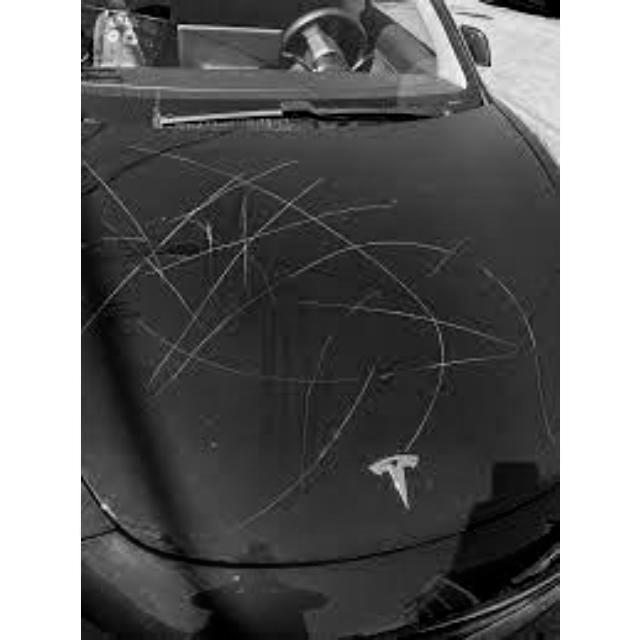bonnet-dent: (81, 125, 392, 638), (296, 119, 557, 637)
